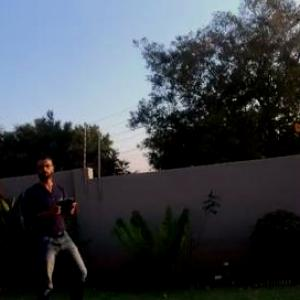follow: (20, 142, 101, 299)
